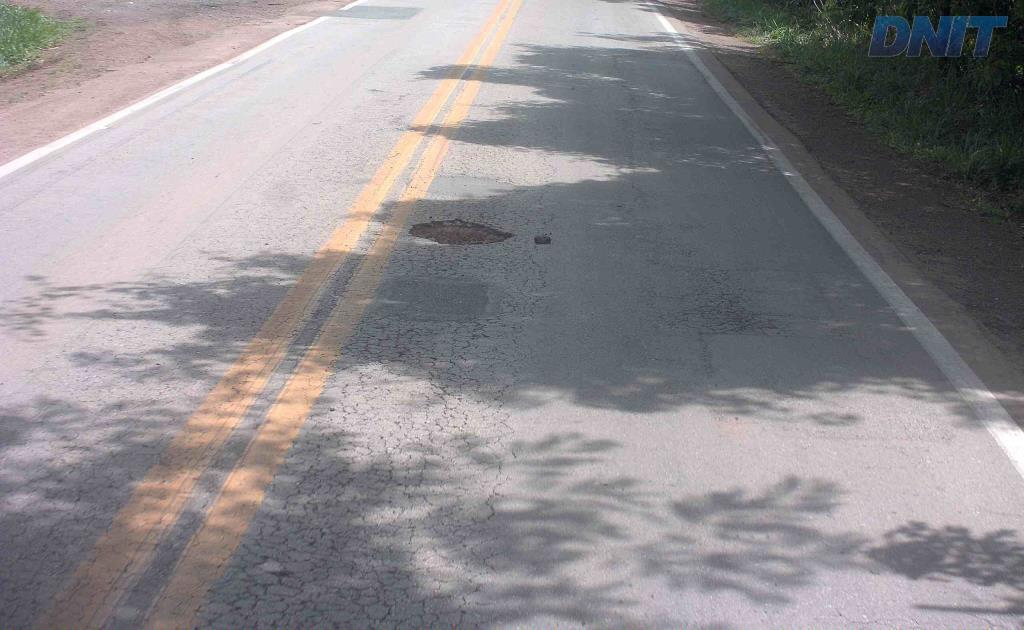pothole: (404, 216, 517, 249), (528, 230, 554, 246)
